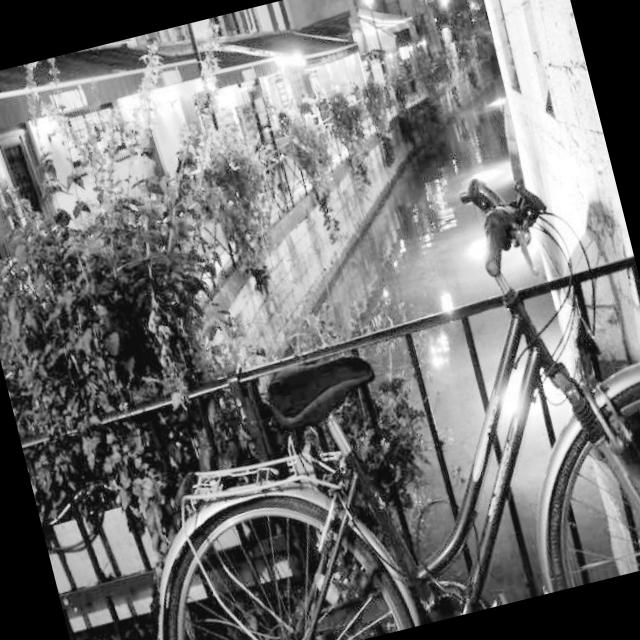Bicycle: (43, 174, 640, 640)
